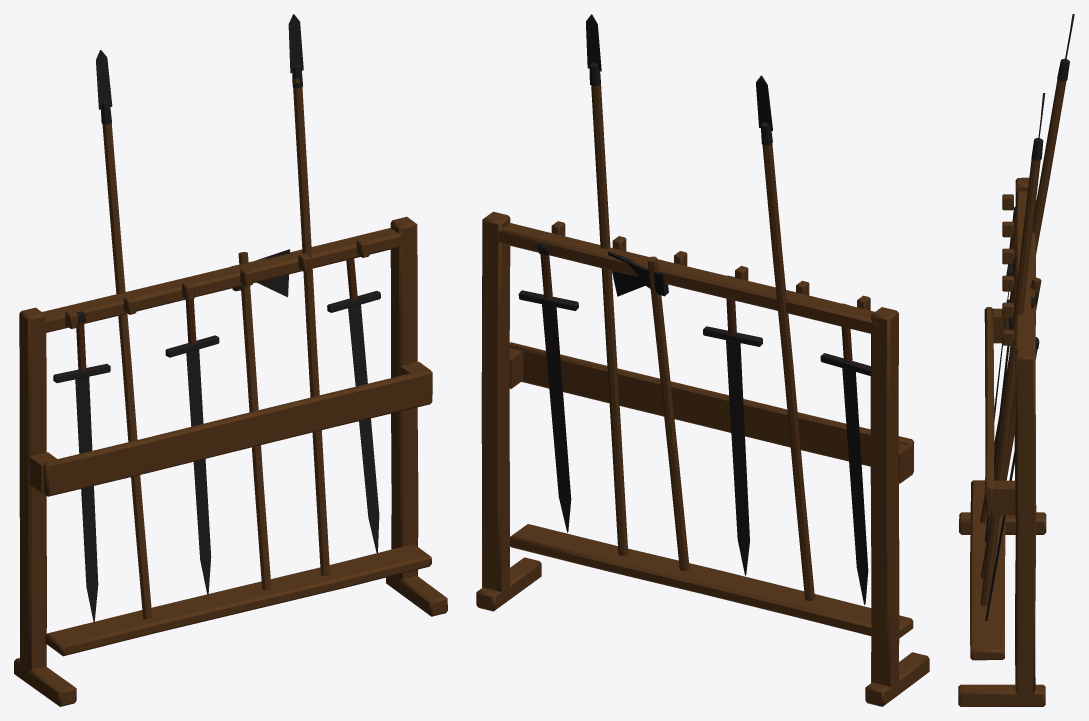
File: waffenstaender.glb
The picture shows the model from 3 angles, left to right: view 1: azimuth 30°, elevation 25°; view 2: azimuth 150°, elevation 25°; view 3: azimuth 270°, elevation 25°; orthographic projection. The views are drawn at different scales.
Visible parts, largest first — view 1: waffenstaender; view 2: waffenstaender; view 3: waffenstaender.
Boxes of the visible parts, x1,y1,x2,y2 form: waffenstaender: (14, 14, 447, 706); waffenstaender: (476, 14, 929, 706); waffenstaender: (958, 14, 1074, 706).
Bounding box in the file's own units: 1.47 × 2.14 × 0.4007.
